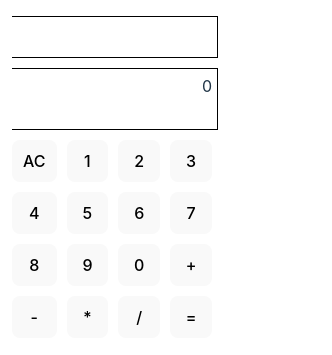
Test: Calculator component › Operação de divisão (/)
Click the button with test id "button-1".
click(87, 161)  # box [66,140,108,182]
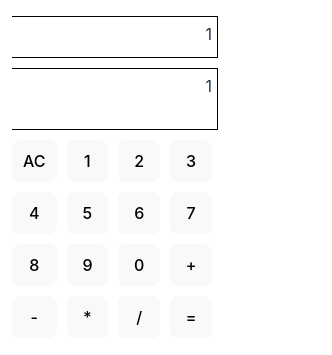
Click the button with test id "button-0".
click(139, 265)  # box [118,244,160,286]
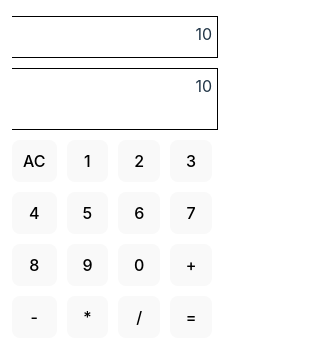
Click the button "/".
click(139, 317)  # box [118,296,160,338]
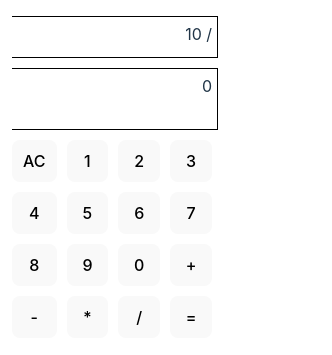
Click the button with test id "button-5".
click(87, 213)  # box [66,192,108,234]
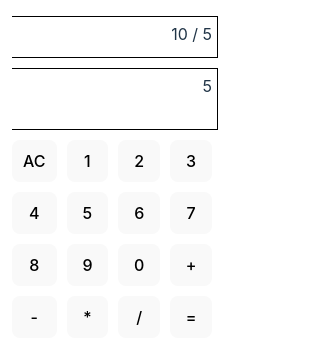
Check: the text with test id "complete-operation" reads "10 / 5", box [171,24,212,44]
Click the button "=".
click(191, 317)  # box [170,296,212,338]
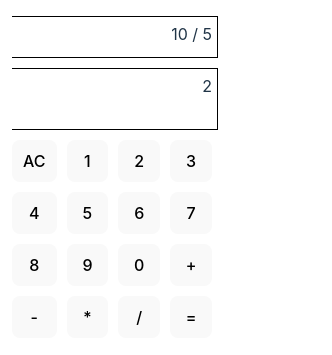
Check: the text with test id "display" reads "2", box [202,76,212,96]
